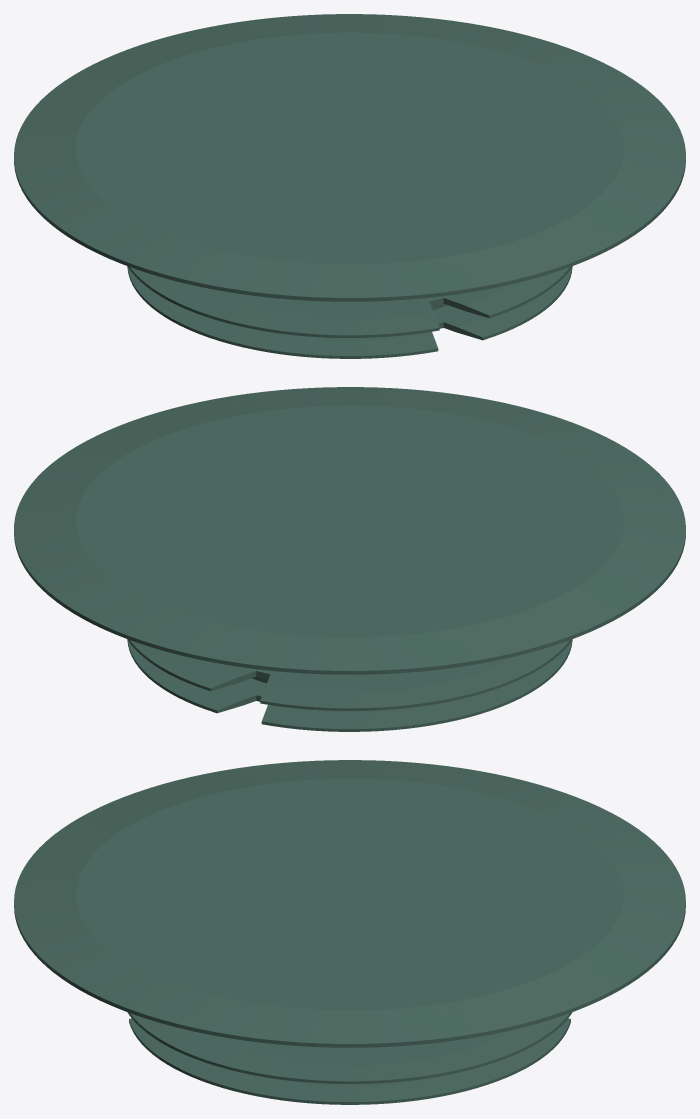
Rendered from SRCXFRPCR.glb.
3 views of the same model, one above another, from view 1: azimuth 30°, elevation 25°; view 2: azimuth 150°, elevation 25°; view 3: azimuth 270°, elevation 25° (orthographic).
Parts seen in each view (by area): view 1: 20750671; view 2: 20750671; view 3: 20750671.
Part boxes in pixels (bbox=[...]): 20750671: bbox=[14, 14, 685, 358]; 20750671: bbox=[14, 387, 685, 731]; 20750671: bbox=[14, 760, 685, 1104].
Bounding box in the file's own units: 1 × 0.2117 × 1.
